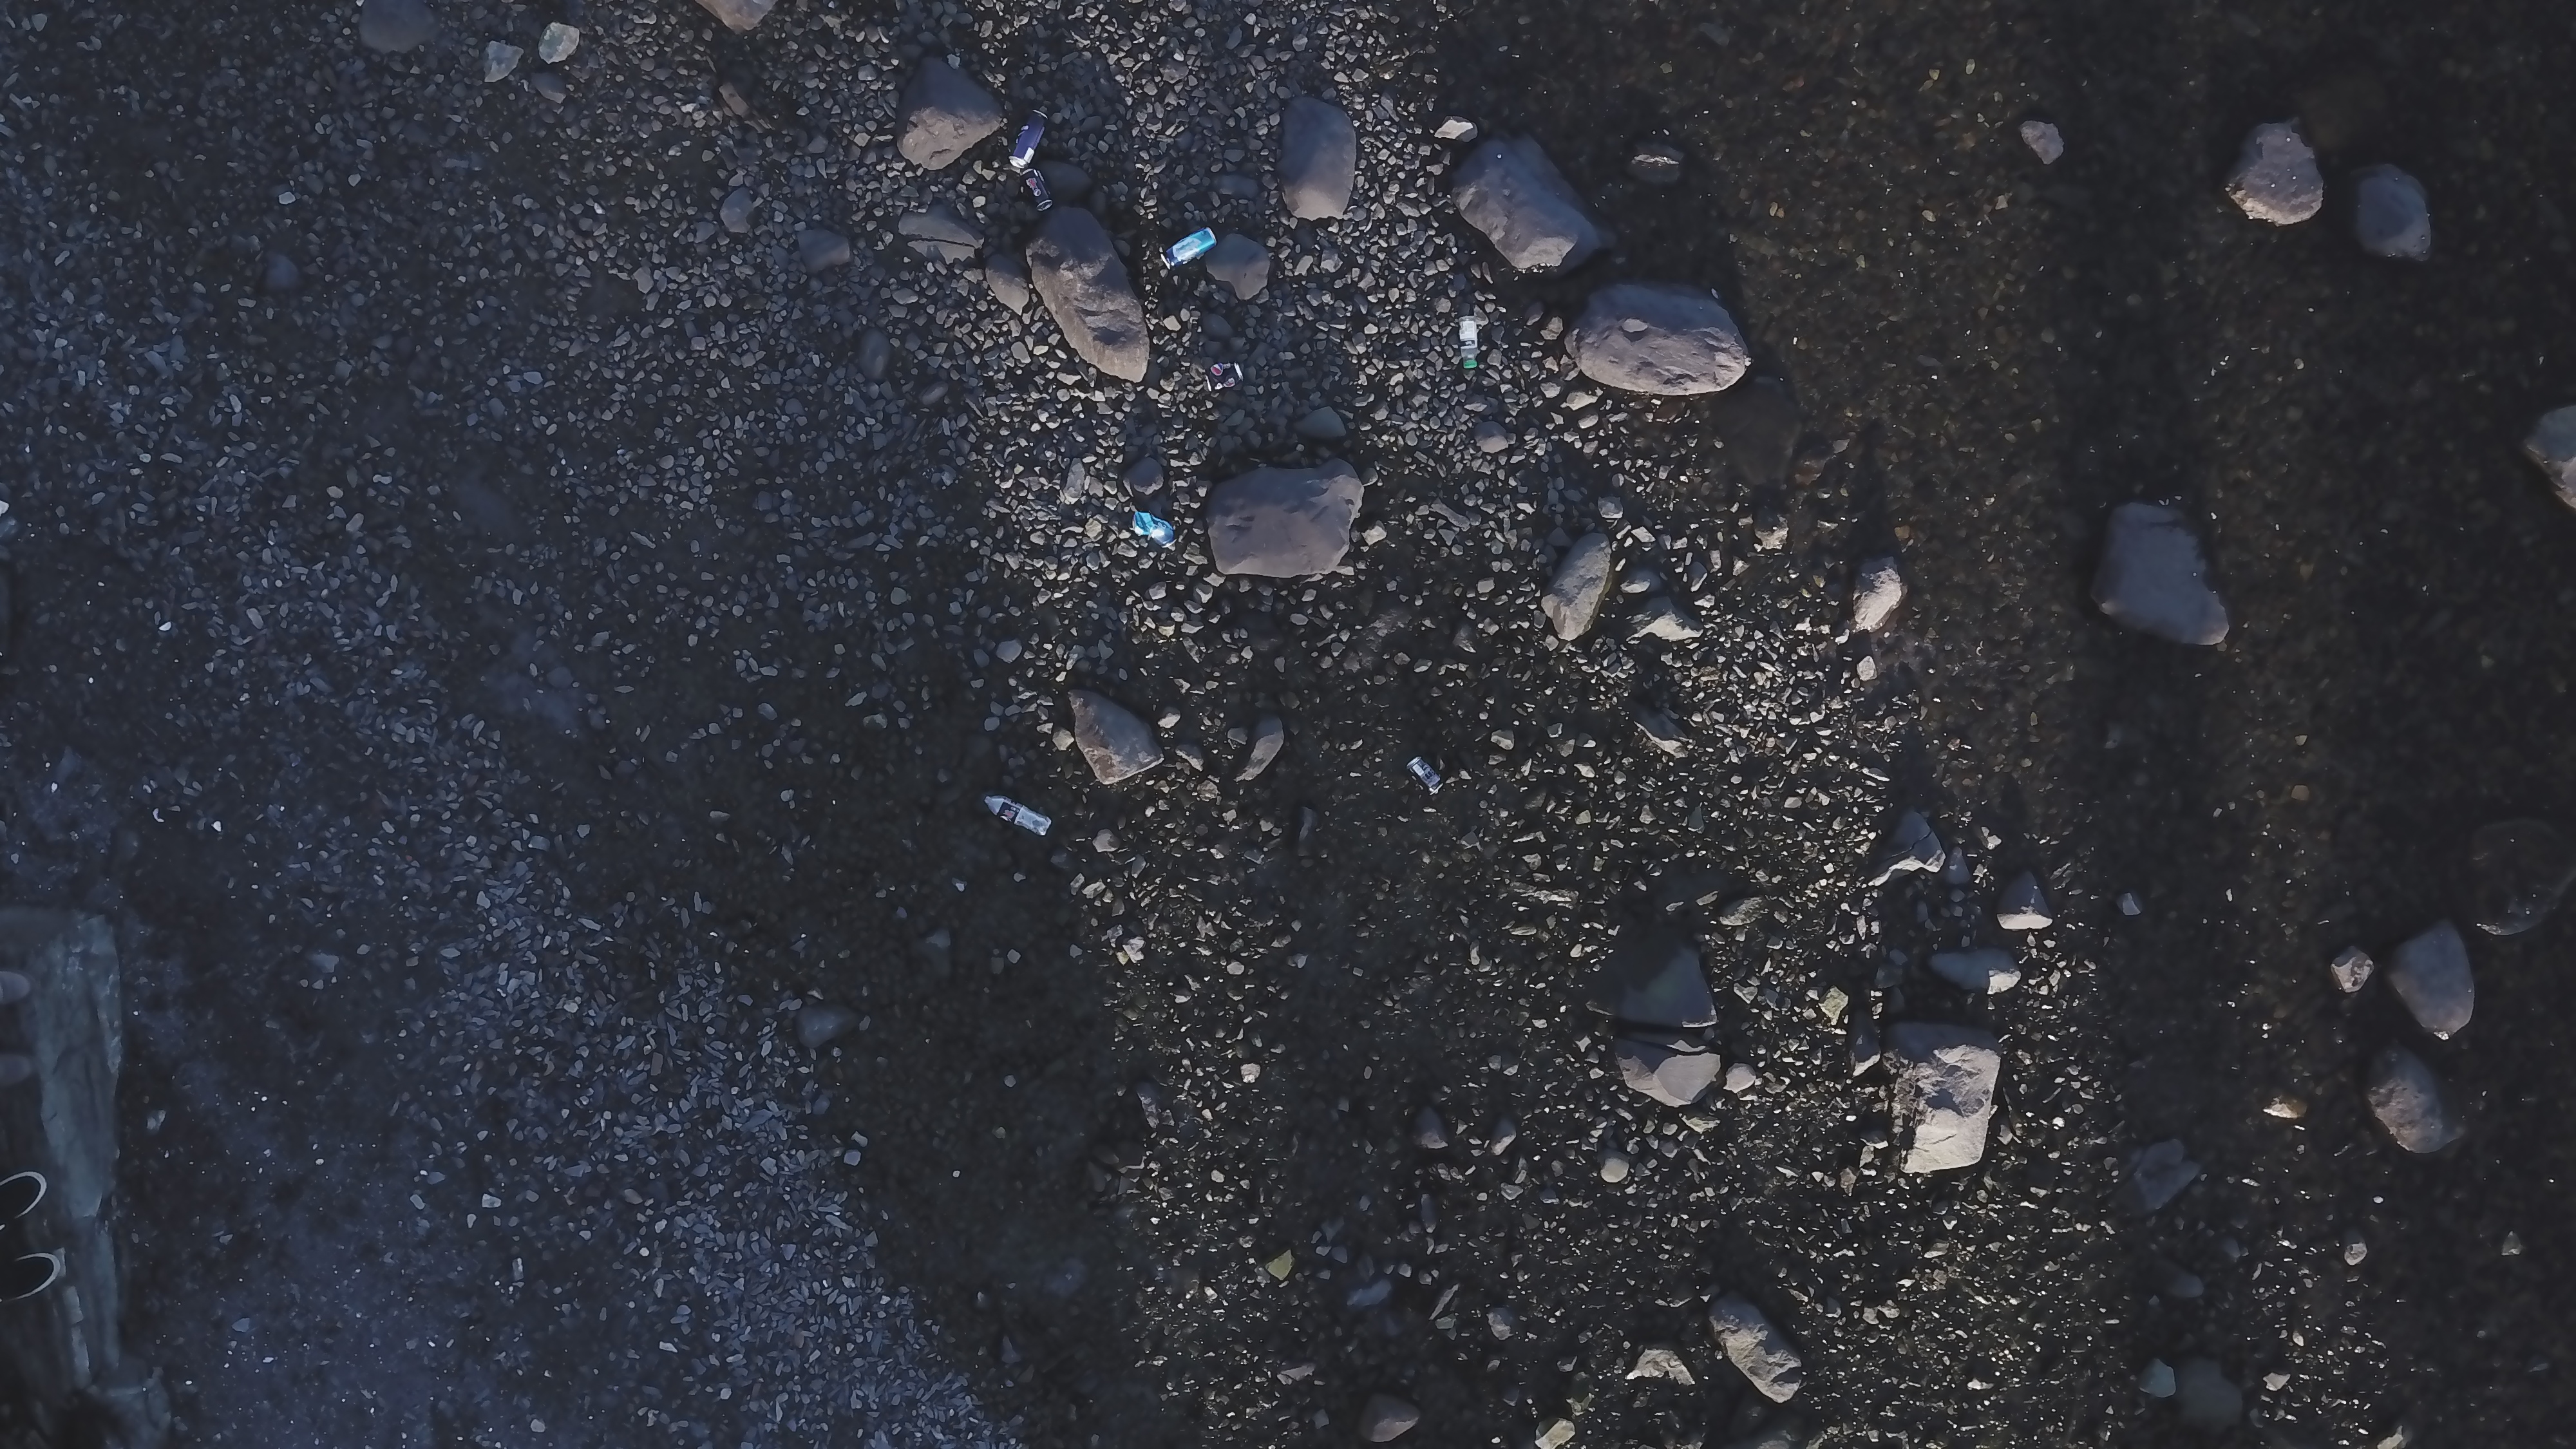Can: (1123, 506, 1182, 554), (1010, 106, 1053, 170), (1162, 230, 1215, 271), (1399, 757, 1449, 800), (1200, 363, 1247, 400), (1021, 173, 1058, 216)
PlasticBottle: (975, 791, 1054, 840), (1454, 313, 1483, 373)
